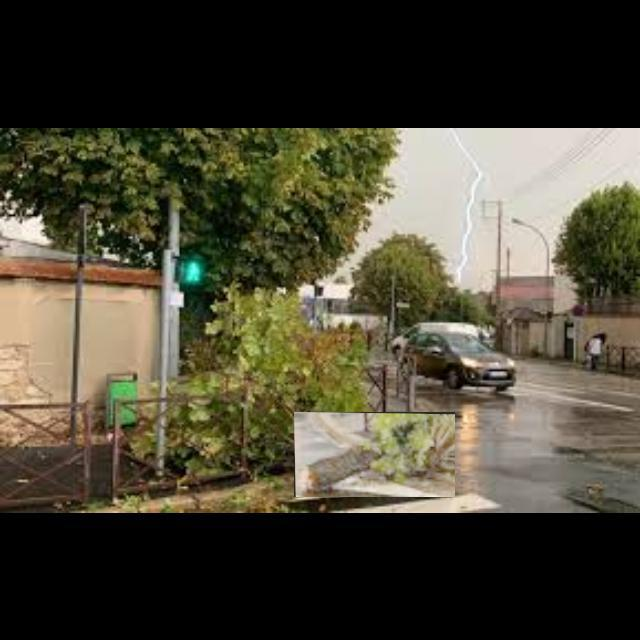fallen_tree: (294, 412, 456, 498)
